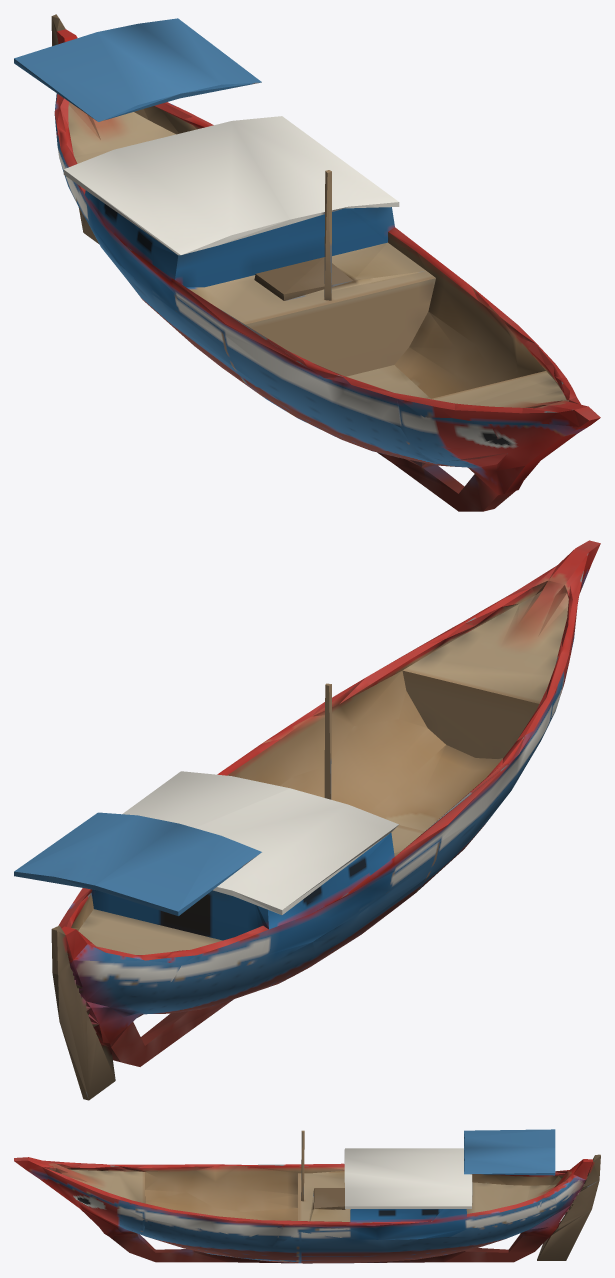
Rendered from ghe_danh_ca_vung_tau.far.glb.
The picture shows the model from 3 angles, top to bottom: view 1: azimuth 30°, elevation 25°; view 2: azimuth 150°, elevation 25°; view 3: azimuth 270°, elevation 25°; orthographic projection. The views are drawn at different scales.
Visible parts, largest first — view 1: ghe_danh_ca_vung_tau; view 2: ghe_danh_ca_vung_tau; view 3: ghe_danh_ca_vung_tau.
Boxes of the visible parts, x1,y1,x2,y2 form: ghe_danh_ca_vung_tau: [14, 14, 600, 511]; ghe_danh_ca_vung_tau: [14, 540, 600, 1100]; ghe_danh_ca_vung_tau: [14, 1129, 600, 1263].
Bounding box in the file's own units: 2.65 × 2.74 × 11.14.
Materials: 1 (1 with a texture image).
